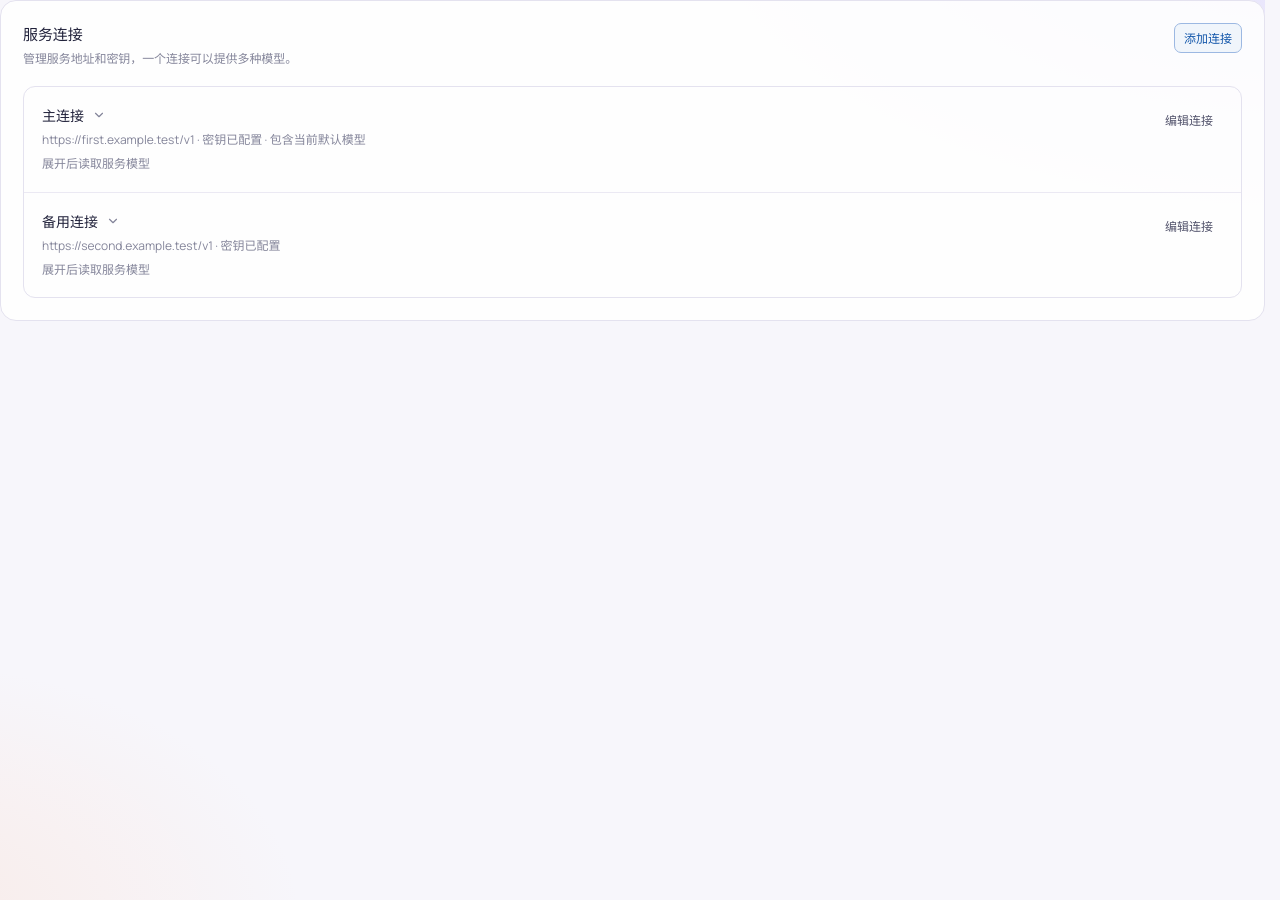
Scenario: ModelConnectionManager › explains how to recover when the backend has not loaded the reveal endpoint
Click the 1st button "编辑连接" at (1189, 120), box [1155, 105, 1223, 135]
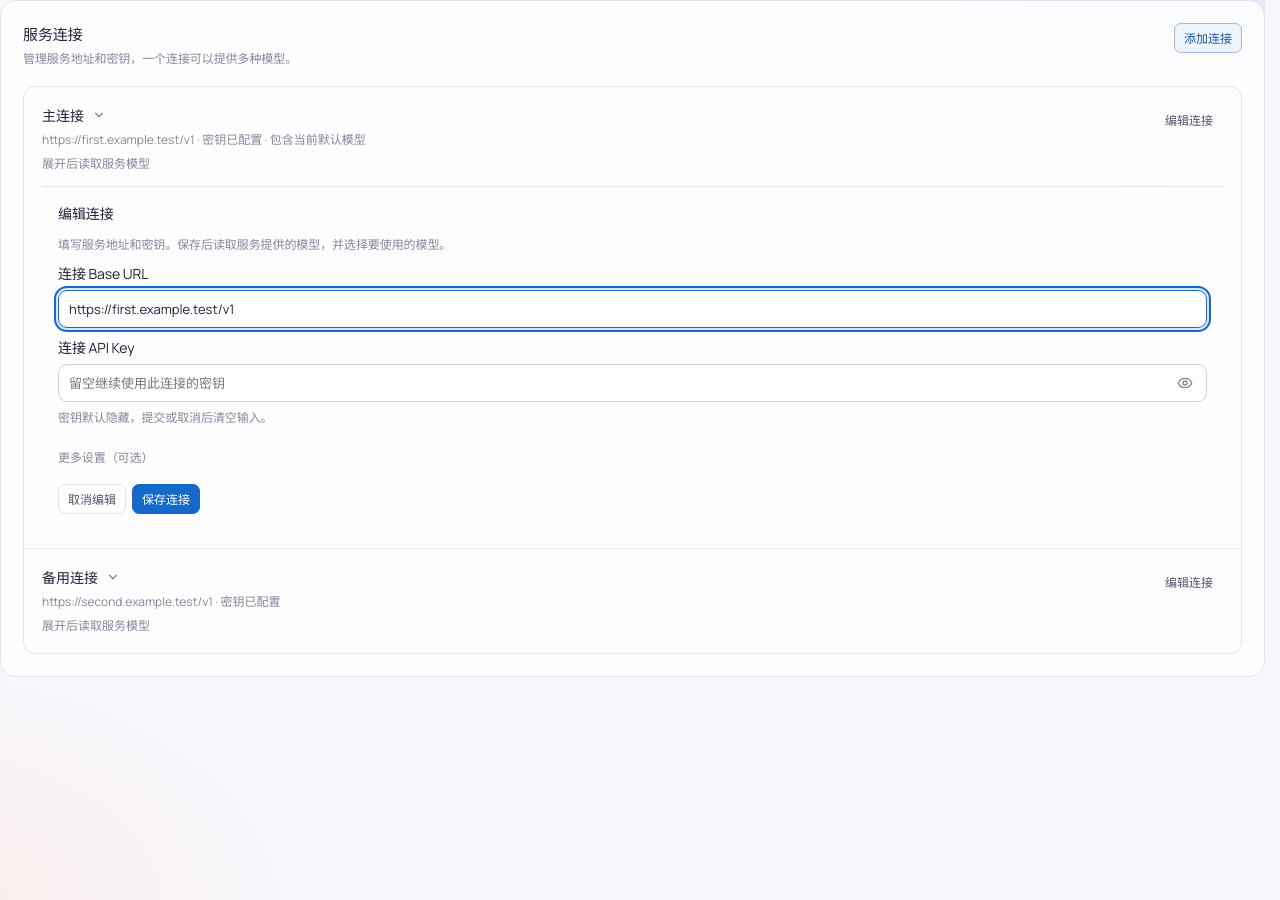
Click the button named "查看 API Key" at (1185, 383), box [1168, 368, 1202, 398]
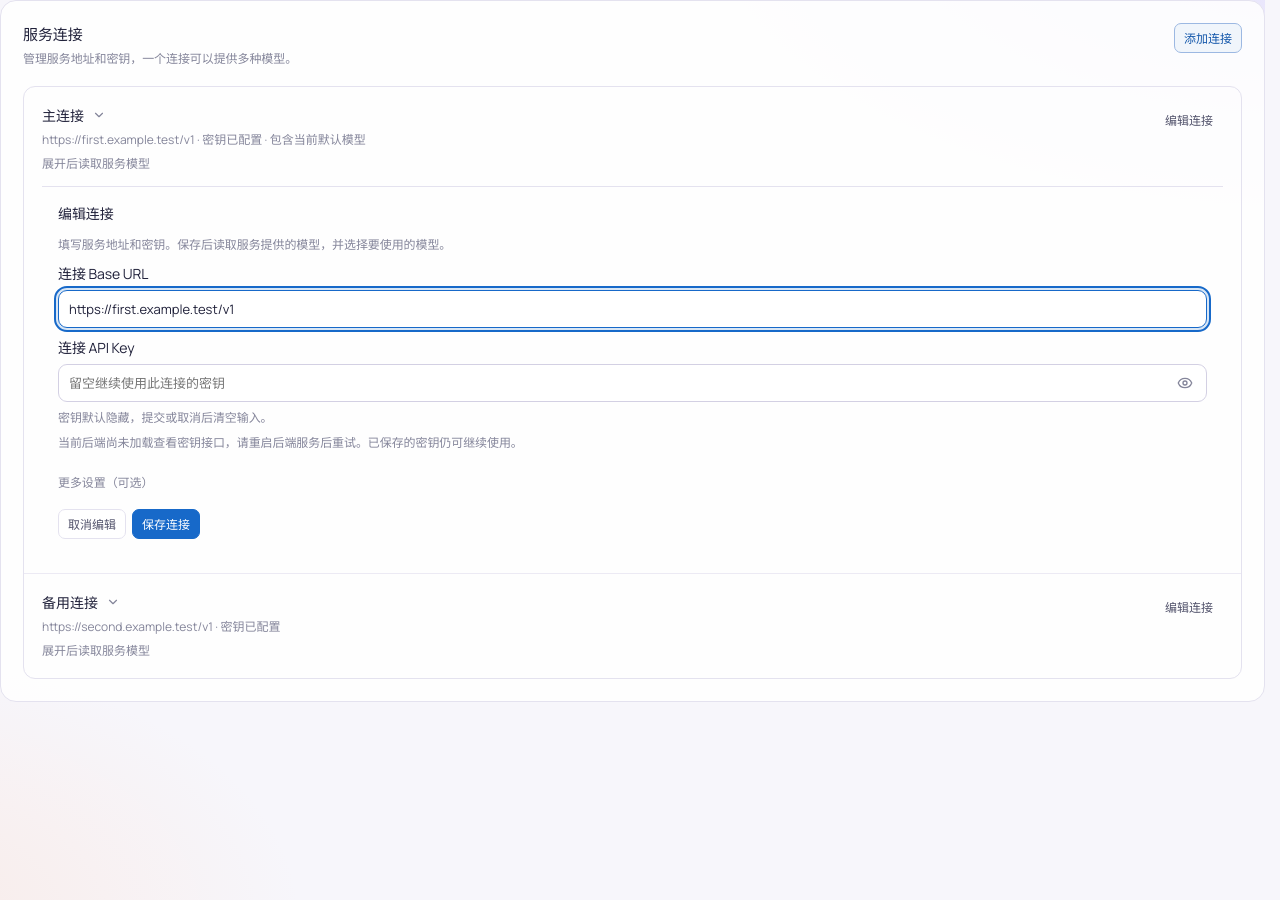
Result: the text "当前后端尚未加载查看密钥接口，请重启后端服务后重试。已保存的密钥仍可继续使用。" is shown at [58, 434, 523, 451]
